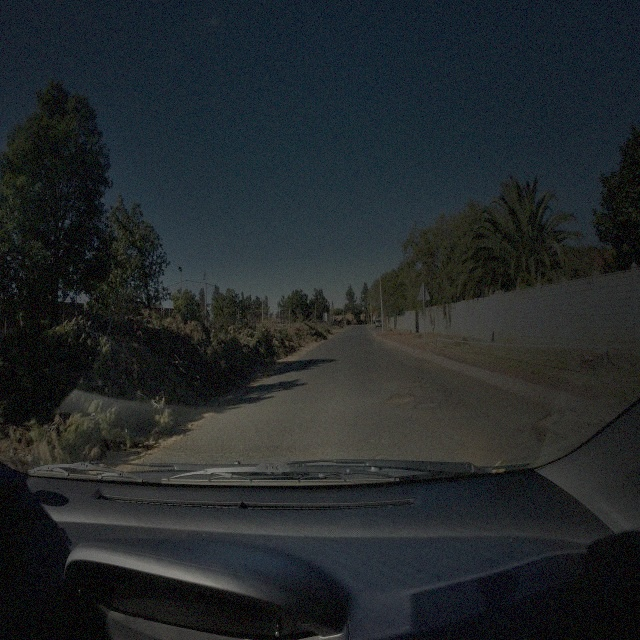pothole: (532, 413, 564, 431), (386, 392, 416, 405), (407, 381, 425, 389), (451, 402, 463, 408)
